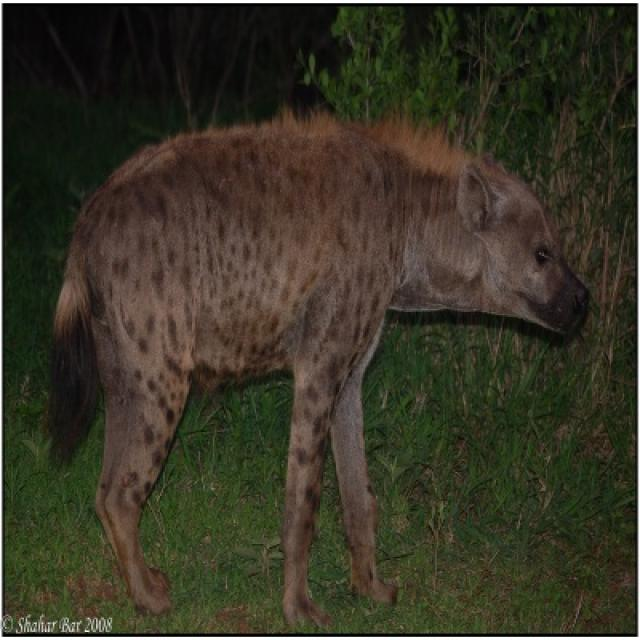hyena: (51, 117, 587, 624)
